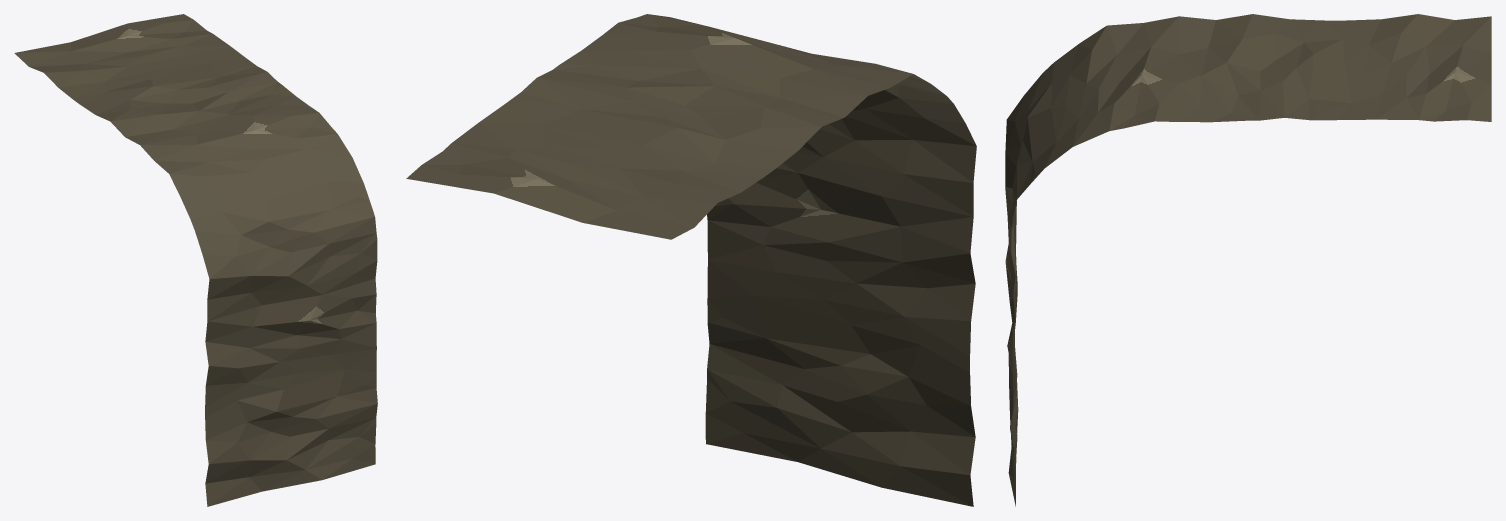
File: Waterfall_01.fbx
The picture shows the model from 3 angles, left to right: view 1: azimuth 30°, elevation 25°; view 2: azimuth 150°, elevation 25°; view 3: azimuth 270°, elevation 25°; orthographic projection. The views are drawn at different scales.
Parts seen in each view (by area): view 1: Waterfall_01; view 2: Waterfall_01; view 3: Waterfall_01.
Part boxes in pixels (x1,y1,x2,y2): Waterfall_01: [14, 14, 377, 506]; Waterfall_01: [406, 14, 976, 506]; Waterfall_01: [1005, 14, 1491, 506].
Size of the model in its own units: 50.01 by 89 by 100.
1 material, 1 textured.
